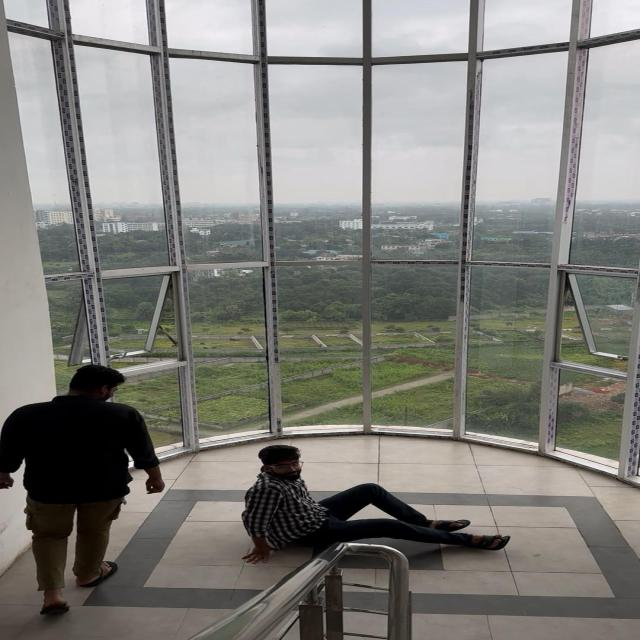fight: (0, 339, 188, 609), (217, 444, 530, 564)
